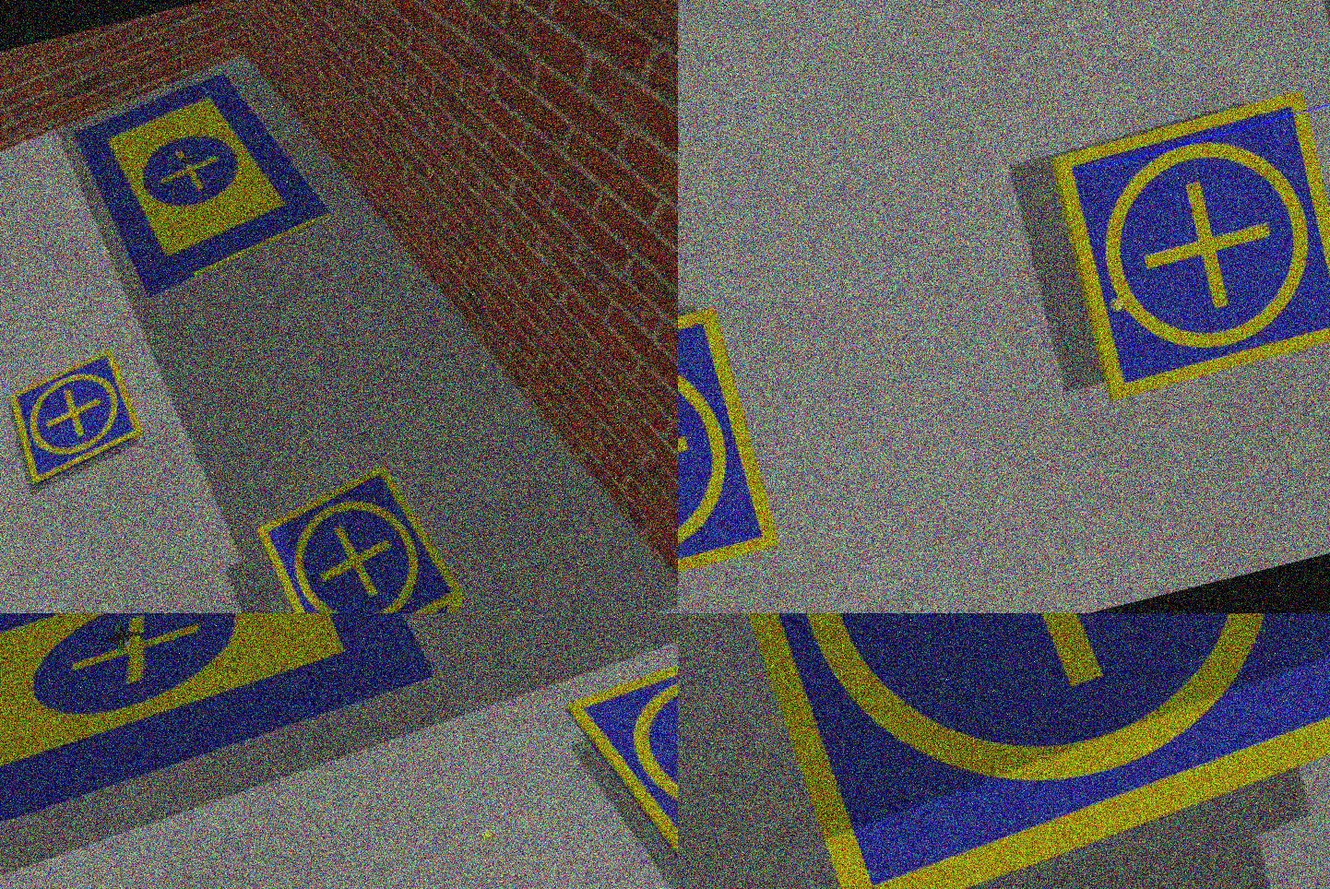large_base: (1, 613, 440, 849), (67, 58, 343, 306)
small_base: (678, 613, 1330, 889), (1048, 91, 1330, 400), (251, 456, 476, 613), (560, 613, 678, 889), (678, 302, 781, 613), (1, 345, 149, 491)
